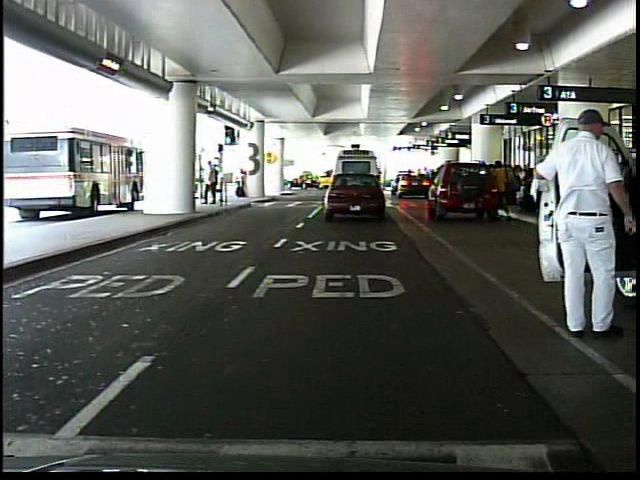person: (530, 105, 628, 344), (577, 149, 607, 224), (495, 156, 514, 223), (203, 155, 220, 208), (235, 165, 252, 201)
